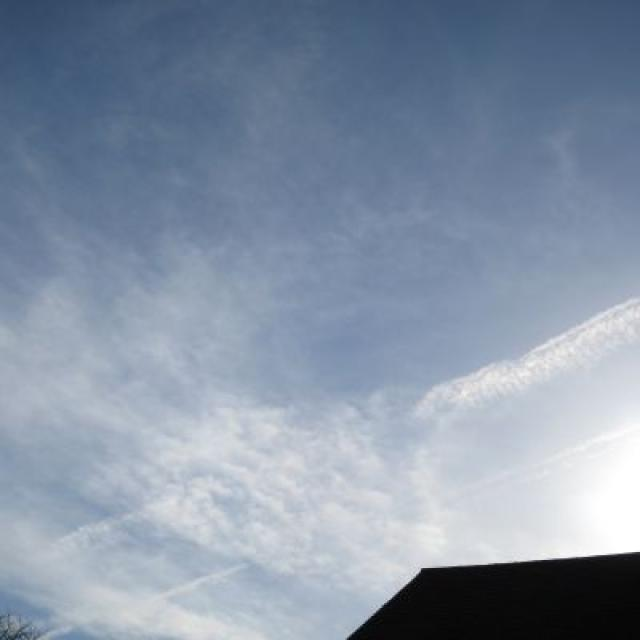Ct: (1, 43, 640, 525)
